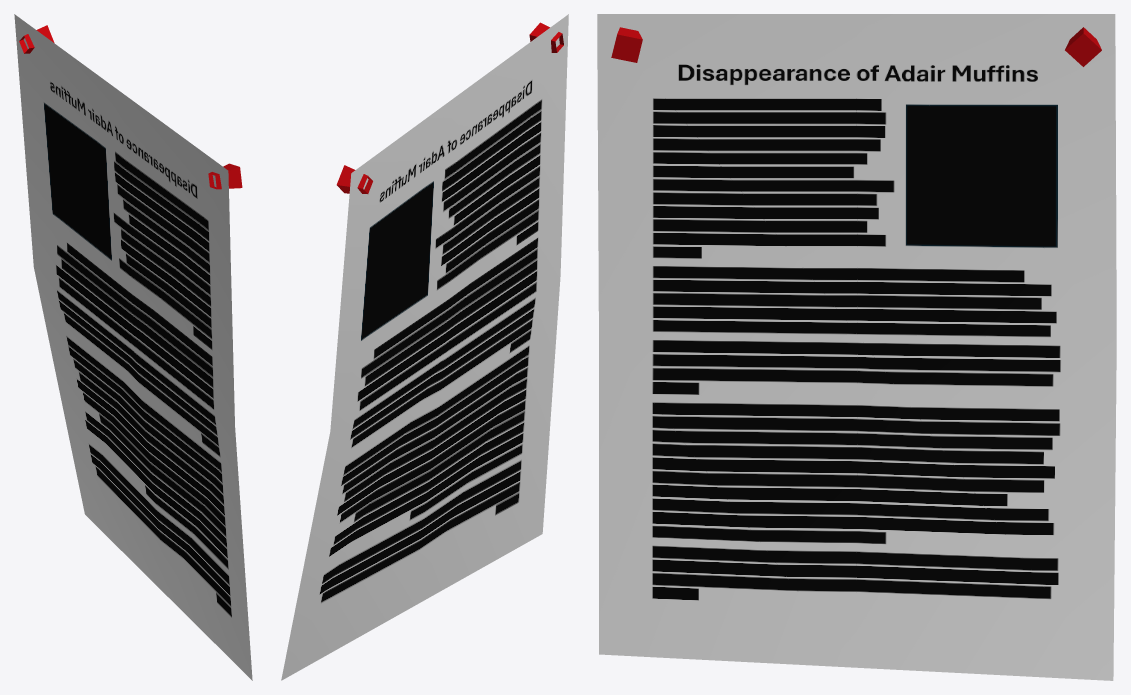
The model's file is Wall-Document_2.fbx.
The picture shows the model from 3 angles, left to right: view 1: azimuth 30°, elevation 25°; view 2: azimuth 150°, elevation 25°; view 3: azimuth 270°, elevation 25°; orthographic projection. The views are drawn at different scales.
Parts seen in each view (by area): view 1: Cube.001; view 2: Cube.001; view 3: Cube.001.
Part boxes in pixels (<box>): Cube.001: <box>14,14,252,680</box>; Cube.001: <box>281,14,568,680</box>; Cube.001: <box>597,14,1116,680</box>.
Bounding box in the file's own units: 117 × 789 × 594.
